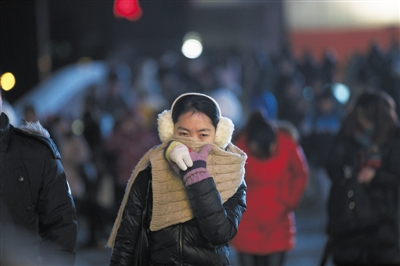face_mask: (174, 113, 214, 161)
